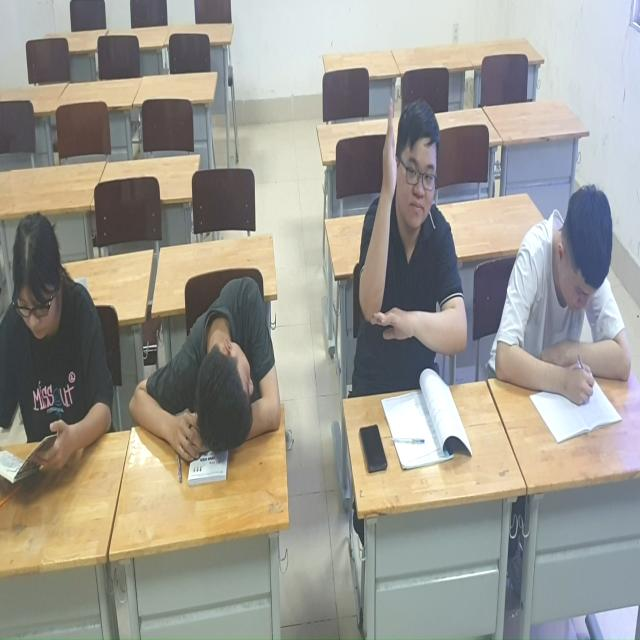raise_hand: (357, 90, 471, 392)
read: (496, 177, 636, 448), (1, 204, 115, 504)
sleep: (133, 269, 306, 469)
